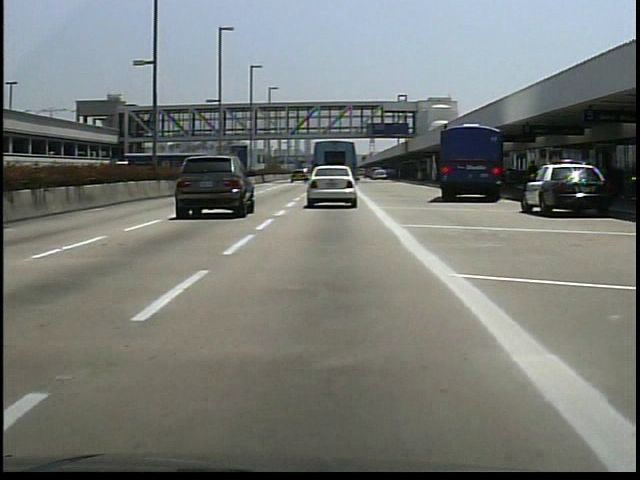person: (524, 154, 544, 199)
